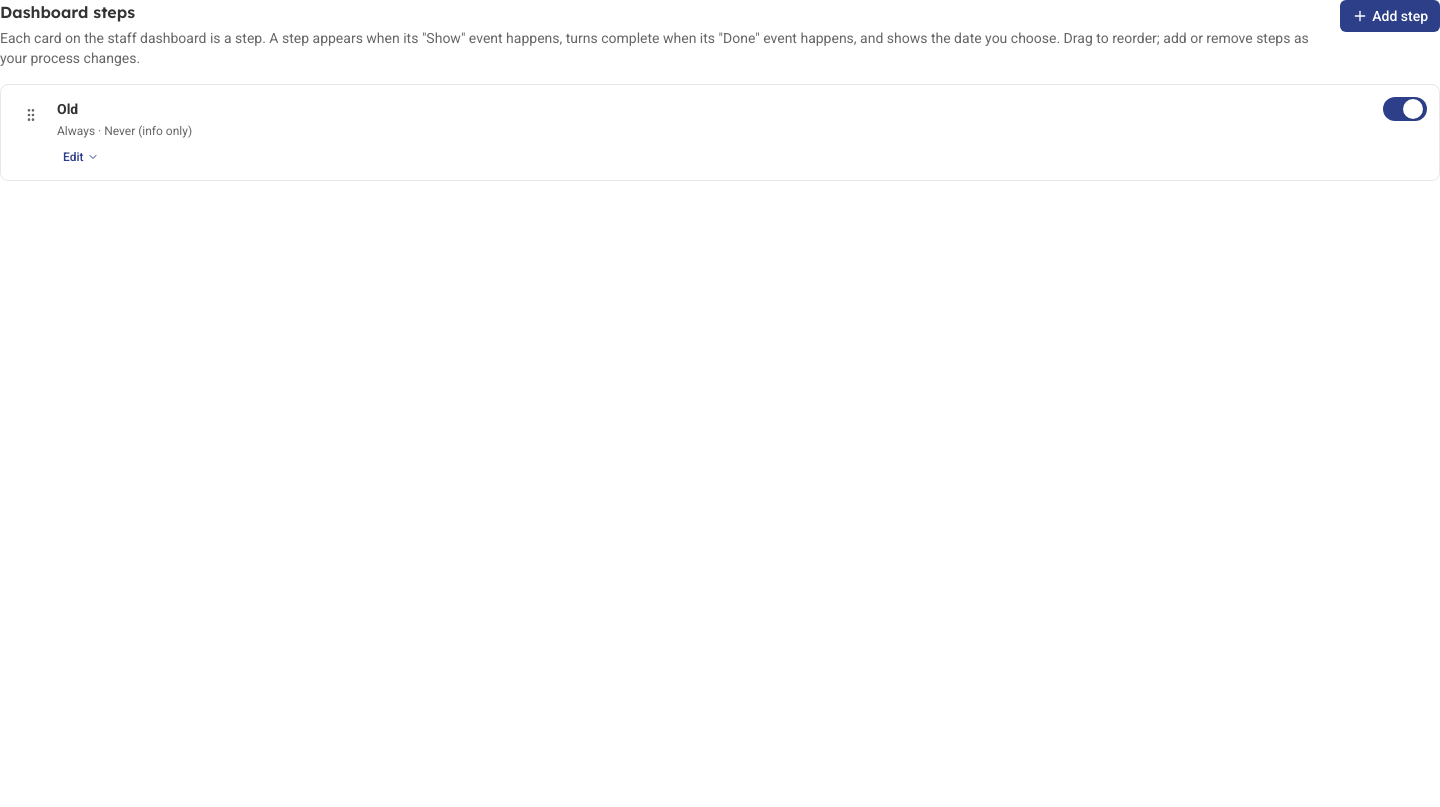
Test: CycleStepsEditor — completion mode › shows a legacy step with no completionMode as Automatic
The image size is (1440, 807).
Click the button "Edit": (81, 157) [57,147,106,167]
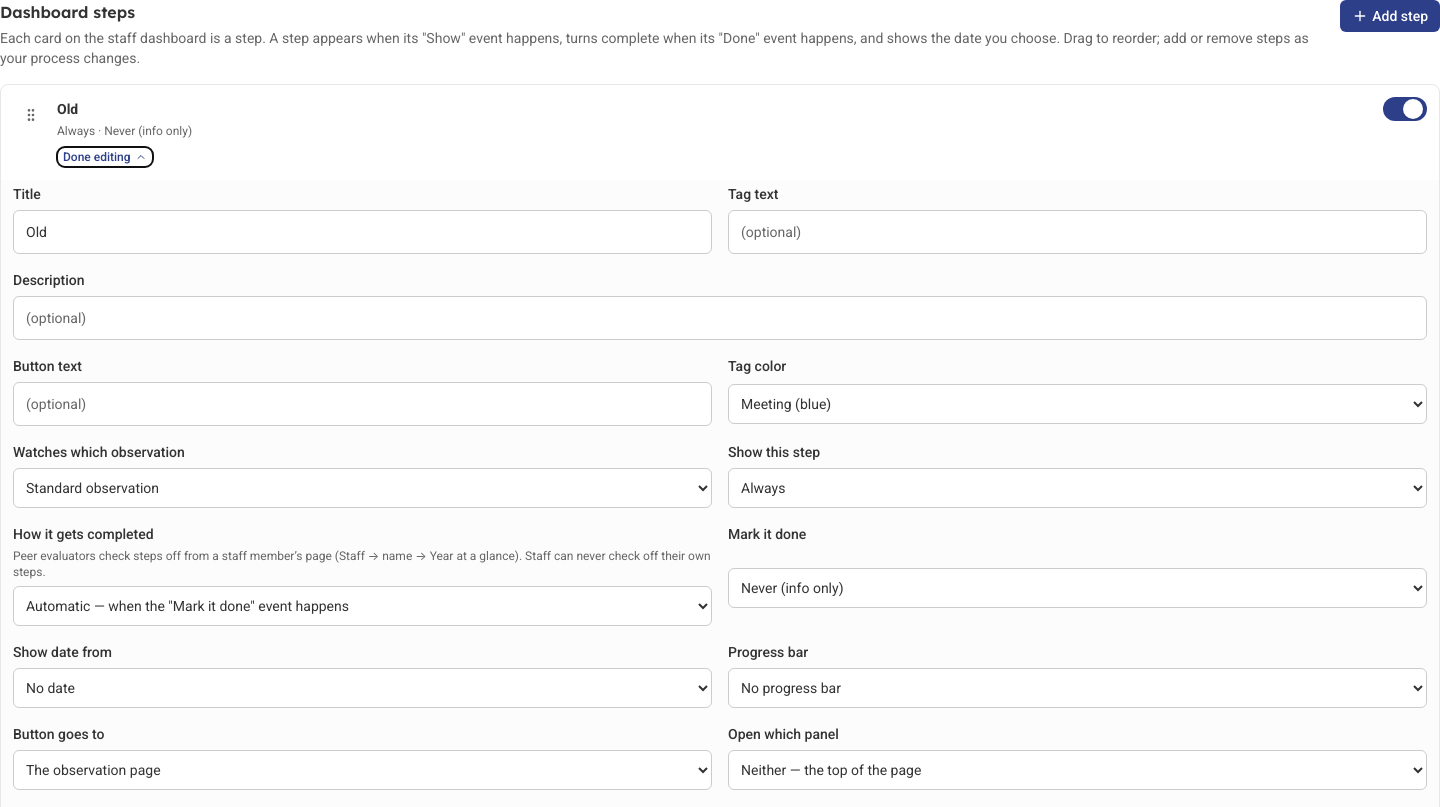
Expected: the dropdown labelled "How it gets completed" shows "Automatic — when the \"Mark it done\" event happens", [13,586,712,626]
